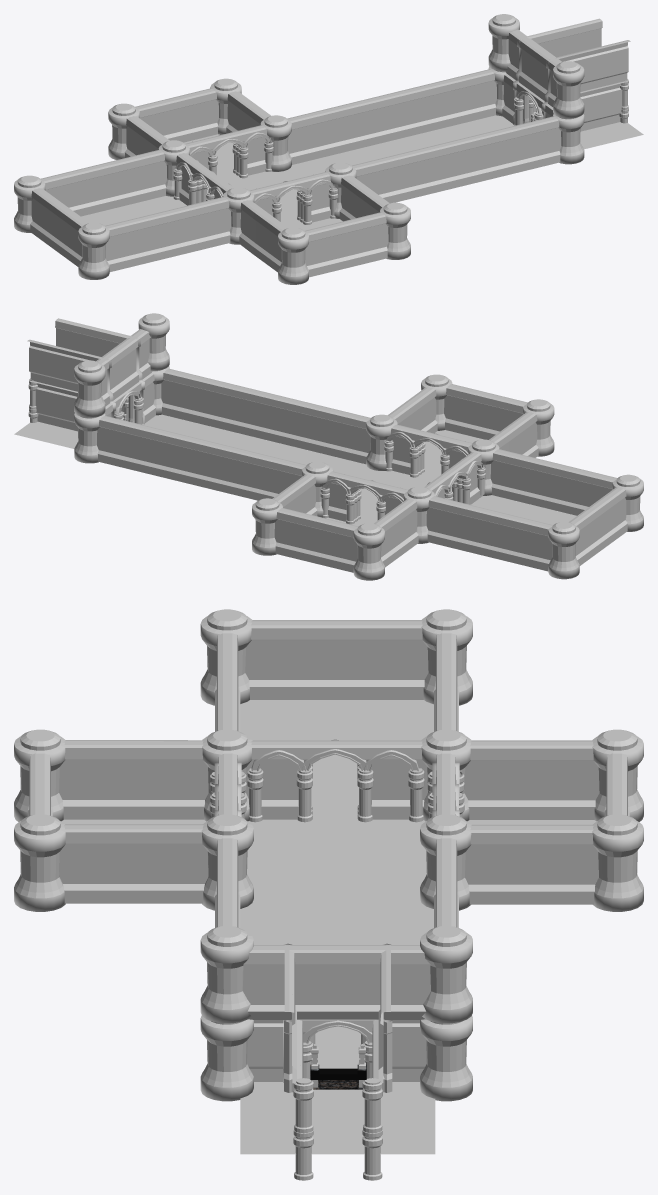
Rendered from CryptLvl1.fbx.
3 views of the same model, one above another, from view 1: azimuth 30°, elevation 25°; view 2: azimuth 150°, elevation 25°; view 3: azimuth 270°, elevation 25° (orthographic). The views are drawn at different scales.
Parts seen in each view (by area): view 1: CryptLvl1.001; view 2: CryptLvl1.001; view 3: CryptLvl1.001.
Boxes of the visible parts, x1=… form: CryptLvl1.001: x1=14, y1=14, x2=643, y2=284; CryptLvl1.001: x1=14, y1=313, x2=643, y2=580; CryptLvl1.001: x1=14, y1=609, x2=643, y2=1180.
Size of the model in its own units: 5782 by 1031 by 3252.
